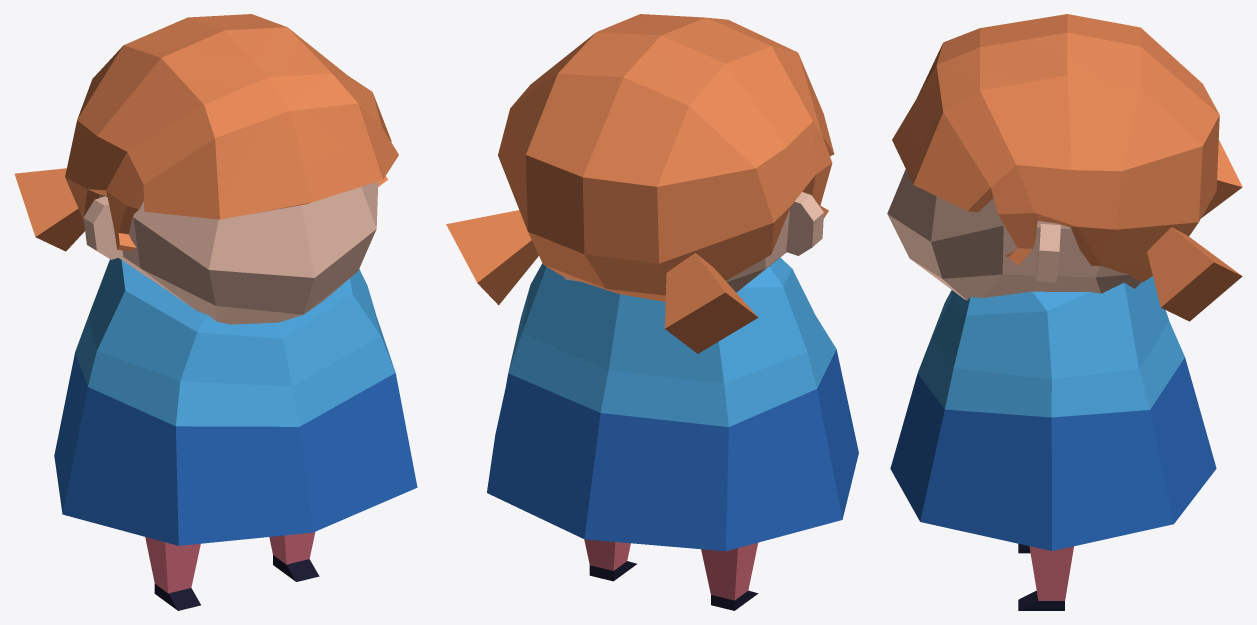
File: lapsi.glb
3 renders of one model, left to right at view 1: azimuth 30°, elevation 25°; view 2: azimuth 150°, elevation 25°; view 3: azimuth 270°, elevation 25°, orthographic. The views are drawn at different scales.
Visible parts, largest first — view 1: Cube; view 2: Cube; view 3: Cube.
Boxes of the visible parts, bbox=[...] form: Cube: bbox=[14, 14, 417, 610]; Cube: bbox=[446, 14, 858, 610]; Cube: bbox=[887, 14, 1242, 610].
Size of the model in its own units: 0.971 by 1.49 by 0.884.
